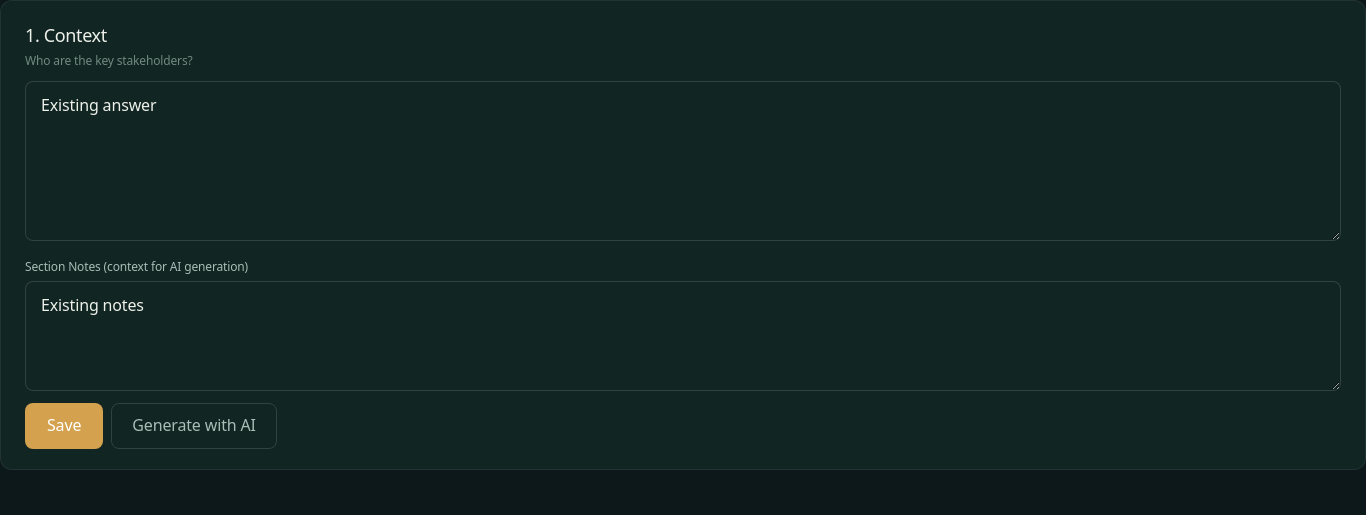
Test: SMQSection › generate error uses LLM error renderer
Click the button "Generate with AI" at (194, 426), box [111, 403, 277, 449]
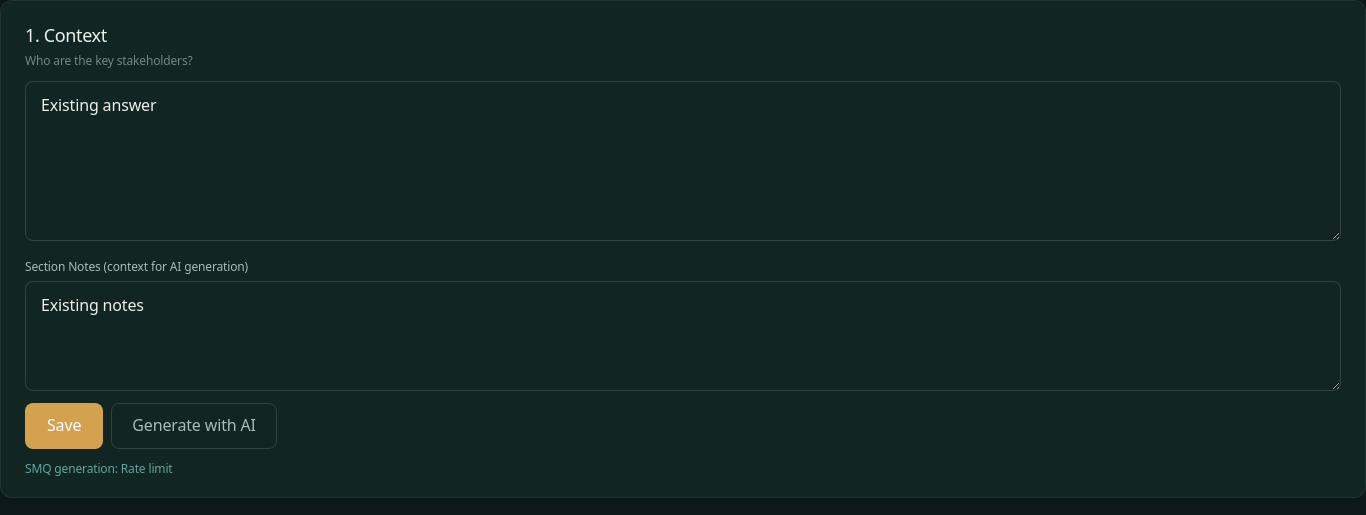
Check: the text "SMQ generation: Rate limit" is shown, box [25, 460, 172, 477]
